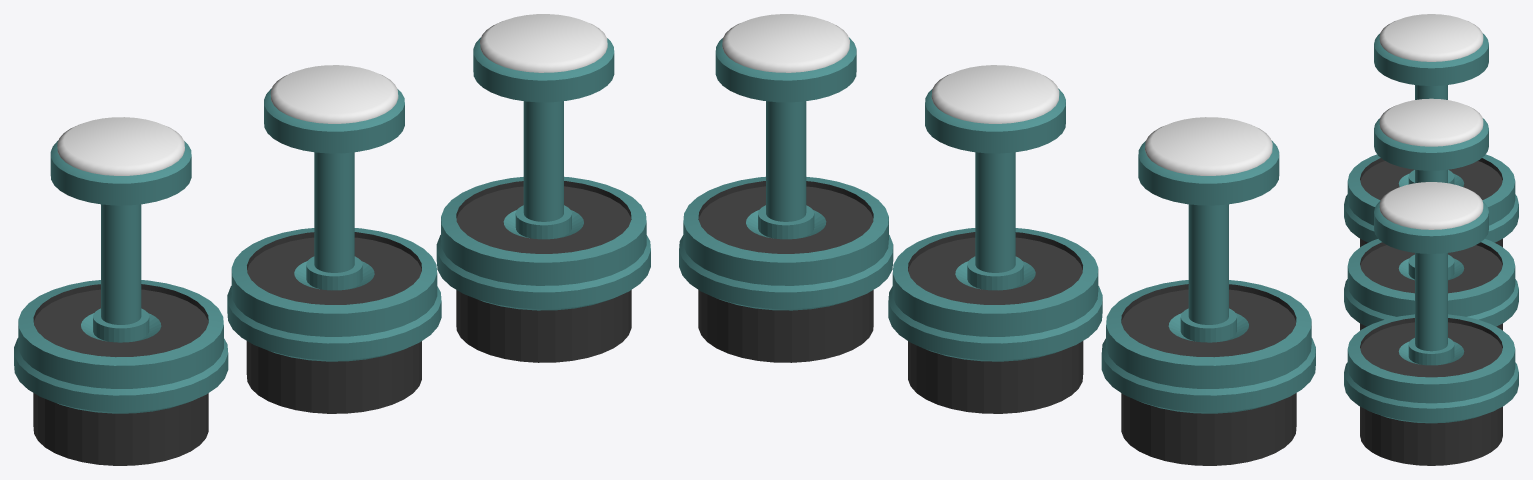
File: pistons.glb
3 renders of one model, left to right at view 1: azimuth 30°, elevation 25°; view 2: azimuth 150°, elevation 25°; view 3: azimuth 270°, elevation 25°, orthographic. The views are drawn at different scales.
Parts seen in each view (by area): view 1: Cylinder.004, Cylinder.033, Cylinder.015, Cylinder.009, Cylinder.032, Cylinder.029, Cylinder.021, Cylinder.022, Cylinder.019, Cylinder.020, Cylinder.023; view 2: Cylinder.004, Cylinder.033, Cylinder.015, Cylinder.009, Cylinder.032, Cylinder.029, Cylinder.021, Cylinder.022, Cylinder.019, Cylinder.020, Cylinder.023; view 3: Cylinder.004, Cylinder.033, Cylinder.029, Cylinder.015, Cylinder.032, Cylinder.009, Cylinder.021, Cylinder.022, Cylinder.019, Cylinder.020, Cylinder.023.
Part boxes in pixels (box(x1,y1,x2,y2)): Cylinder.004: box(33, 186, 631, 465); Cylinder.033: box(50, 14, 614, 183); Cylinder.015: box(14, 232, 441, 412); Cylinder.009: box(101, 101, 563, 324); Cylinder.032: box(14, 228, 441, 413); Cylinder.029: box(50, 50, 614, 205); Cylinder.021: box(441, 217, 646, 285); Cylinder.022: box(441, 176, 646, 262); Cylinder.019: box(436, 245, 650, 308); Cylinder.020: box(436, 235, 650, 292); Cylinder.023: box(456, 181, 631, 219); Cylinder.004: box(698, 186, 1296, 465); Cylinder.033: box(715, 14, 1279, 183); Cylinder.015: box(888, 232, 1315, 412); Cylinder.009: box(766, 101, 1228, 324); Cylinder.032: box(888, 228, 1315, 413); Cylinder.029: box(715, 50, 1279, 205); Cylinder.021: box(683, 217, 888, 285); Cylinder.022: box(683, 176, 888, 262); Cylinder.019: box(679, 245, 893, 308); Cylinder.020: box(679, 235, 893, 292); Cylinder.023: box(698, 181, 873, 219); Cylinder.004: box(1360, 161, 1502, 465); Cylinder.033: box(1374, 14, 1488, 236); Cylinder.029: box(1374, 45, 1488, 253); Cylinder.015: box(1344, 158, 1518, 326); Cylinder.032: box(1344, 154, 1518, 319); Cylinder.009: box(1415, 85, 1447, 351); Cylinder.021: box(1347, 350, 1515, 403); Cylinder.022: box(1347, 314, 1515, 384); Cylinder.019: box(1344, 372, 1518, 422); Cylinder.020: box(1344, 362, 1518, 408); Cylinder.023: box(1360, 318, 1502, 348).
Bounding box in the file's own units: 1.17 × 0.5268 × 0.3564.
